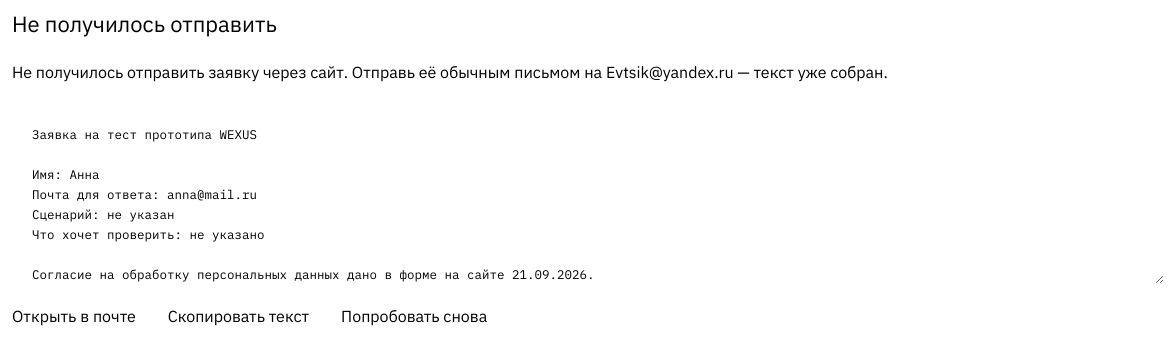
Test: RequestResult › копирование письма › Clipboard API отказал — просим скопировать вручную, а не врём об успехе
Step 1. Click the button "Скопировать текст" → [238, 316], box [168,304,309,328]
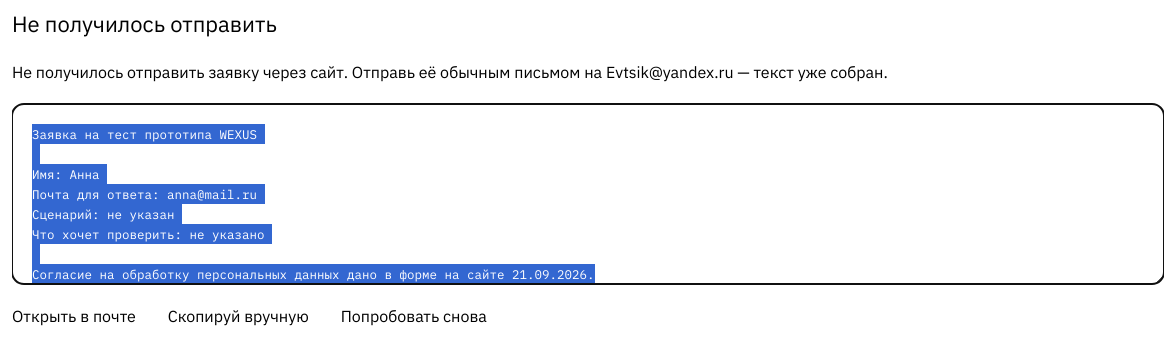
Result: the button "Скопируй вручную" is shown at [168,304,309,328]
